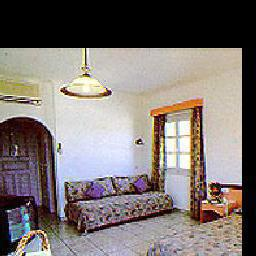Puerta: (0, 131, 40, 201)
